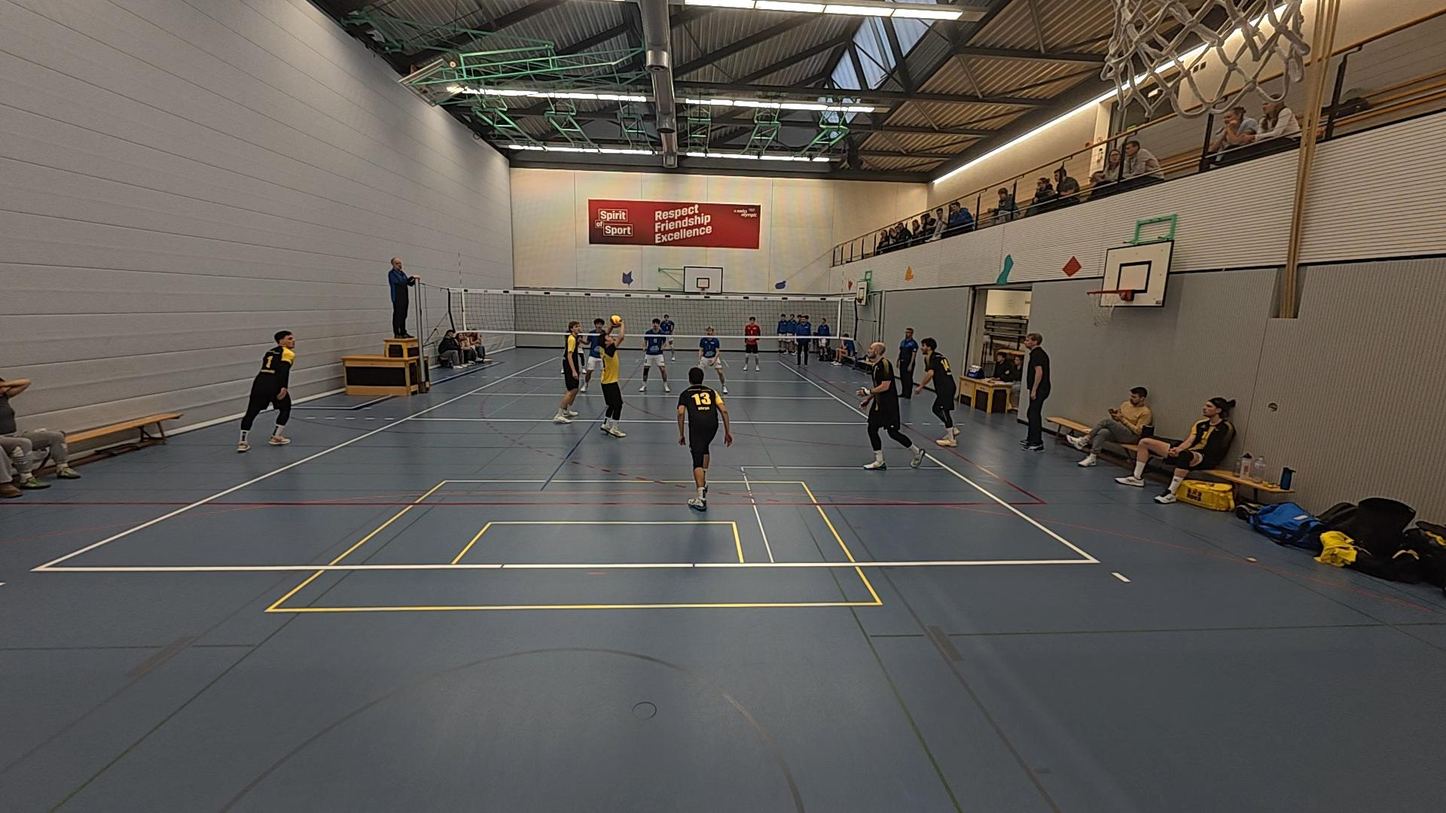Player: (858, 343, 923, 471), (676, 367, 733, 511), (238, 330, 295, 452), (917, 337, 959, 447), (554, 321, 587, 423), (639, 314, 670, 394), (696, 325, 731, 395), (582, 317, 609, 386), (737, 315, 762, 370), (654, 310, 678, 360)
Set: (590, 322, 631, 439)
ball: (901, 265, 916, 280), (608, 313, 624, 326)
